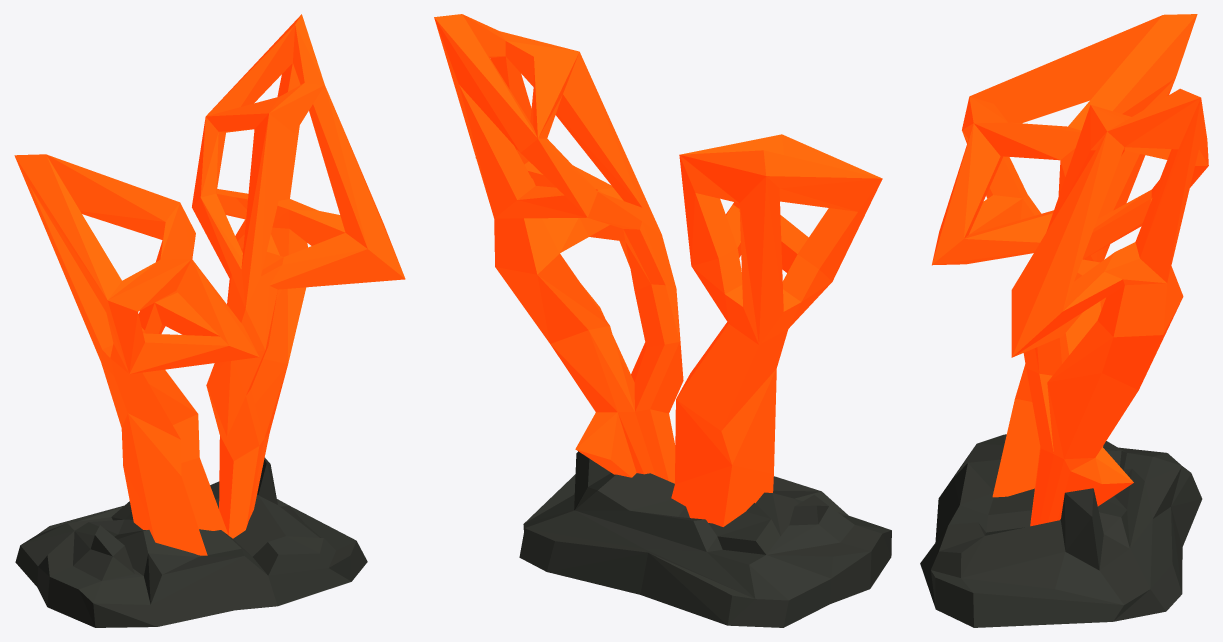
File: SM_Relief_Element_07.glb
The picture shows the model from 3 angles, left to right: view 1: azimuth 30°, elevation 25°; view 2: azimuth 150°, elevation 25°; view 3: azimuth 270°, elevation 25°; orthographic projection. The views are drawn at different scales.
Visible parts, largest first — view 1: SM_Relief_Element_07; view 2: SM_Relief_Element_07; view 3: SM_Relief_Element_07.
Part boxes in pixels (<box>): SM_Relief_Element_07: <box>14,14,405,627</box>; SM_Relief_Element_07: <box>434,14,891,627</box>; SM_Relief_Element_07: <box>920,14,1208,627</box>.
Size of the model in its own units: 0.7176 by 0.9436 by 0.4504.
2 materials, 1 textured.
